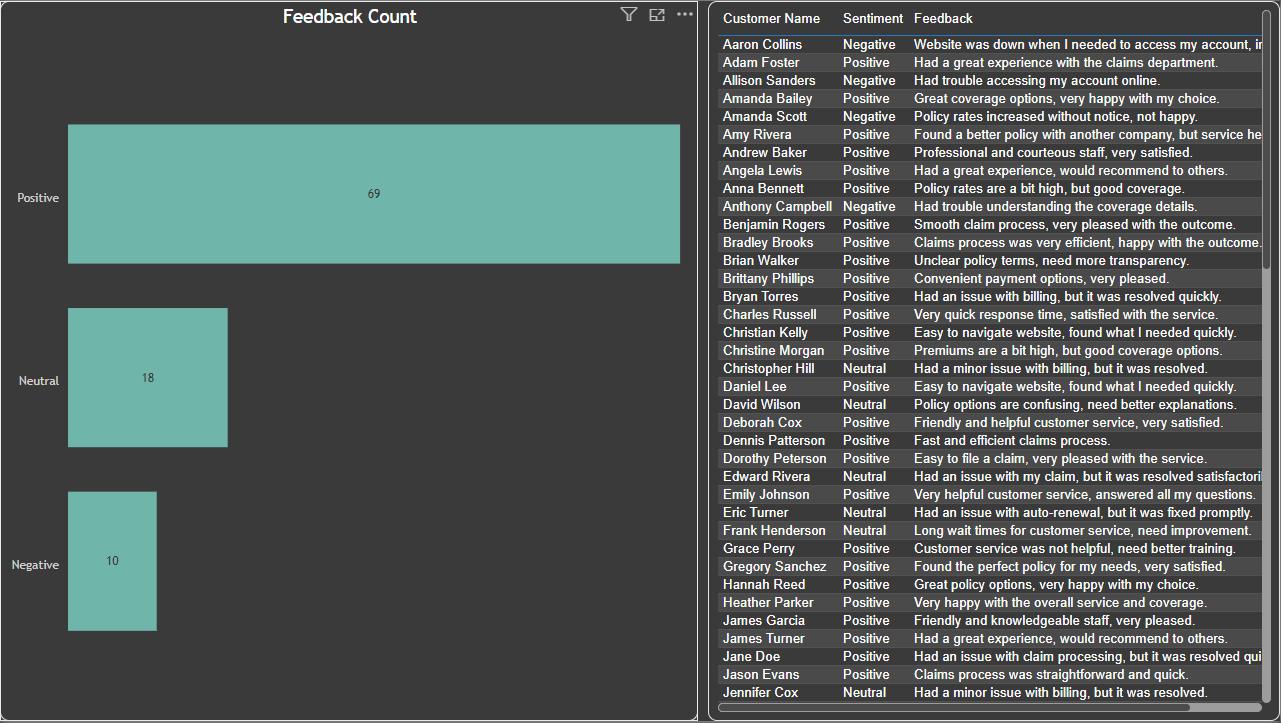

This screenshot's page, from the dashboard's own definition file:
{"tool":"powerbi","page":{"name":"Page 3","canvas":[1280,720],"ordinal":2},"visuals":[{"type":"barChart","title":"Feedback Count","fields":{"Category":["Sheet1.Sentiment"],"Y":["CountNonNull(Sheet1.Sentiment)"]},"box":[0,0,698.4,719.8],"z":0},{"type":"tableEx","fields":{"Values":["Sheet1.Customer Name","Sheet1.Sentiment","Sheet1.Feedback"]},"box":[708,0,572,720],"z":1000}]}

Visuals, with their boxes in screenshot pixels (x1, y1, x2, y2), scaled from the page's 1280x720 canvas onto the 1281x723 screenshot:
"Feedback Count" barChart: x1=0, y1=0, x2=699, y2=722
tableEx - Sheet1.Customer Name x Sheet1.Sentiment: x1=709, y1=0, x2=1280, y2=722
